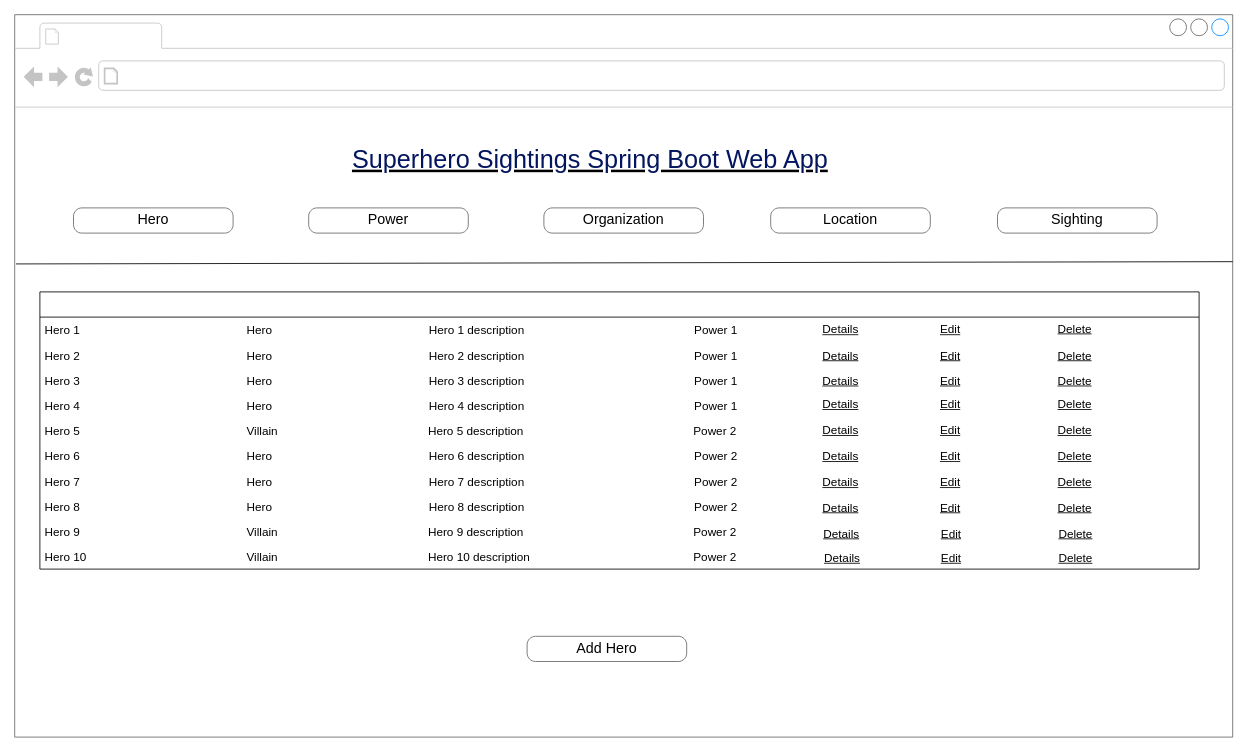
Some shapes in this 1248 by 752 pixel diagram are drawn without their labels. Each missing label, with the box of its shape:
Hero Hero/Villain Description Power: (39, 291, 1199, 569)
https://www.default.com: (123, 64, 334, 87)
Superhero: (64, 24, 191, 47)
